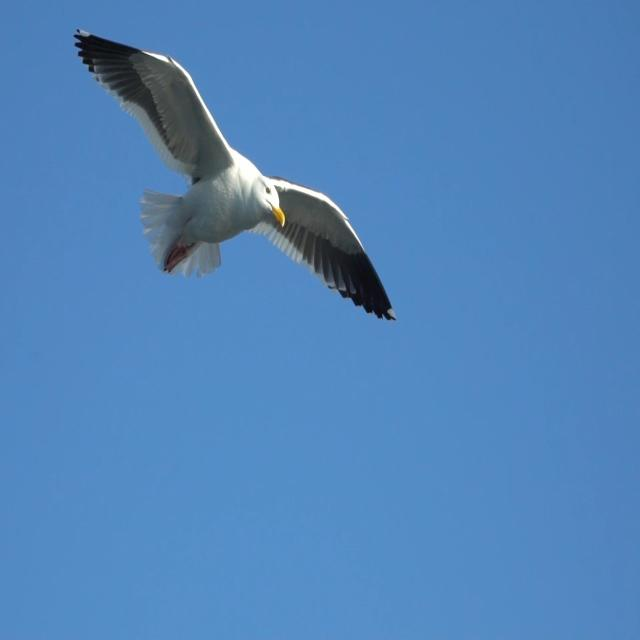bird: (66, 18, 401, 353)
